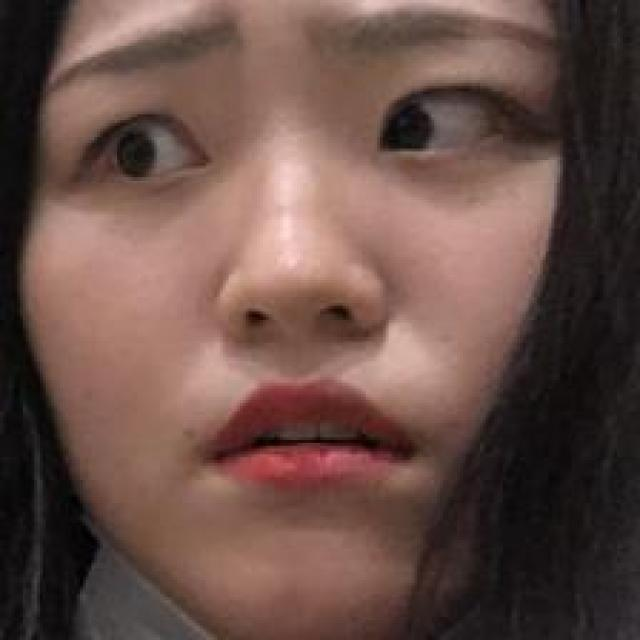fear: (37, 20, 578, 553)
